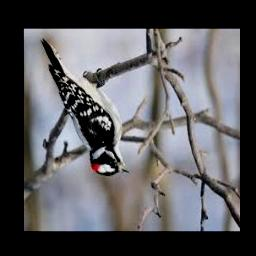Woodpecker: (41, 38, 132, 176)
